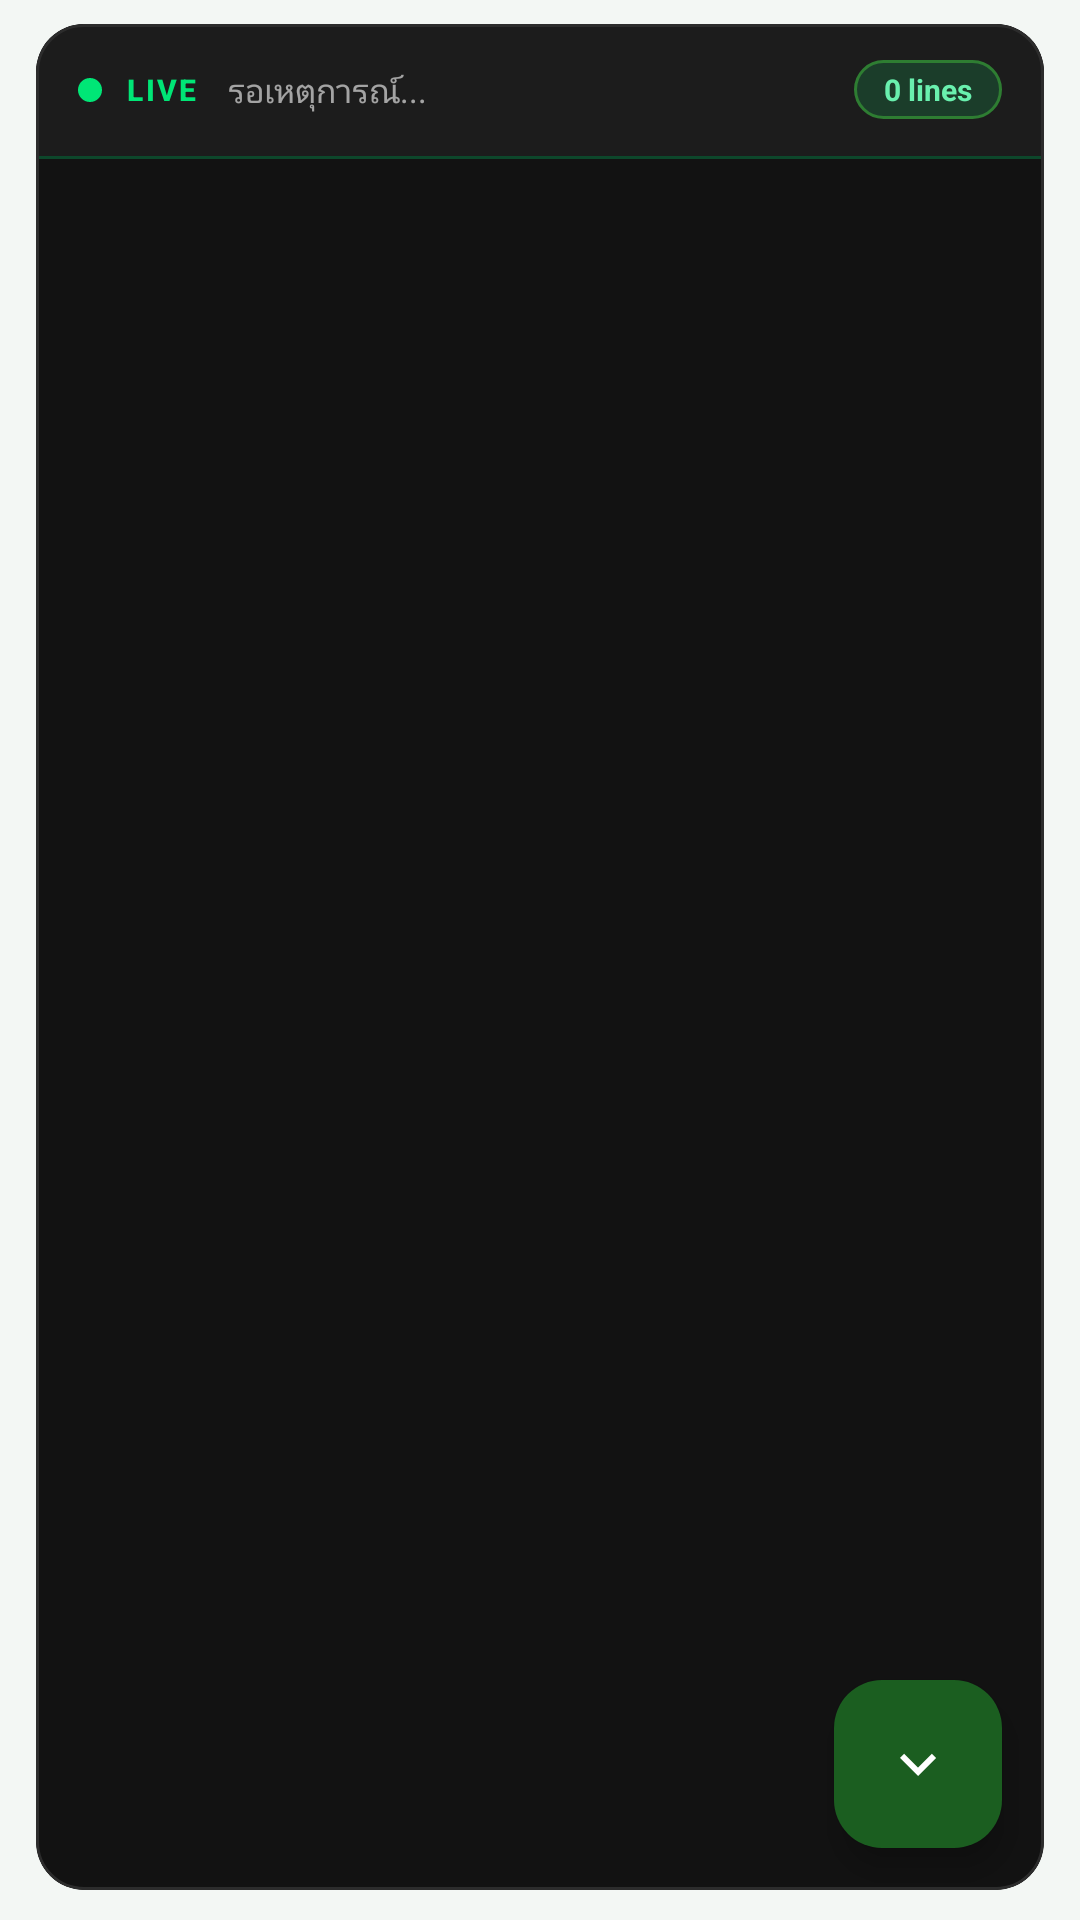

Screen size 1080*1920. Icon name, then its center in pixels as (x=x, y=y):
เลื่อนลงล่างสุด: (x=918, y=1764)
